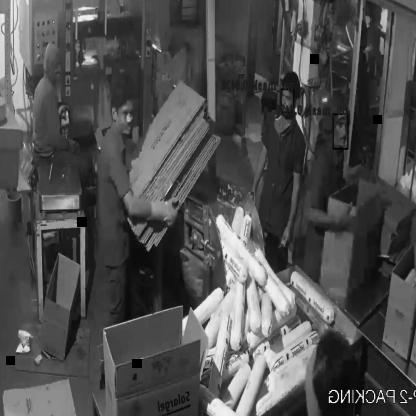glove: (122, 185, 183, 234)
no_glove: (305, 197, 370, 238), (246, 131, 272, 214), (281, 156, 302, 246)
